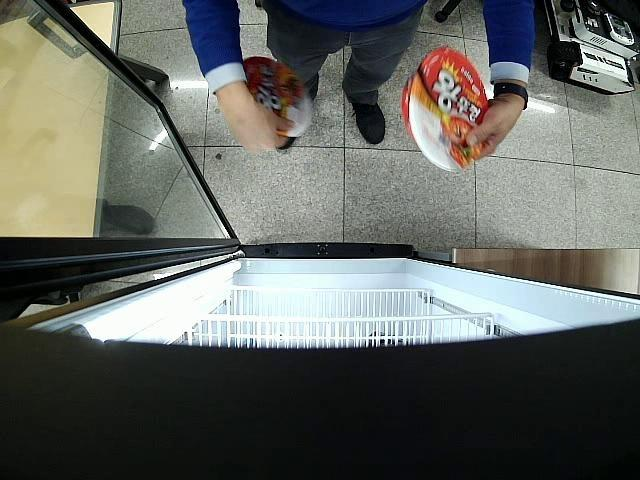10_wangTtukkeong: (402, 47, 489, 172), (242, 56, 314, 138)
